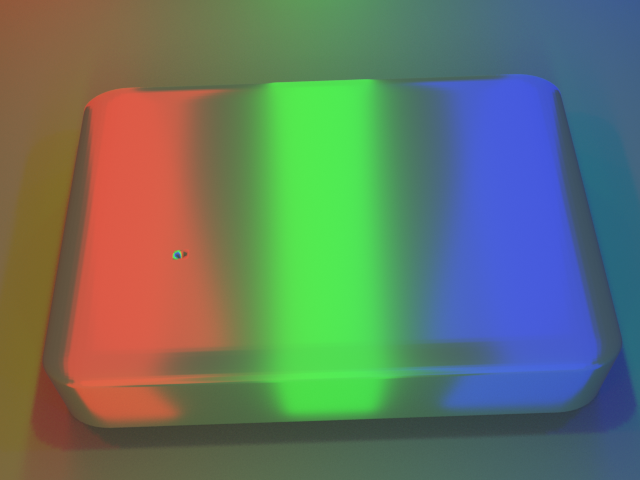dent: (147, 238, 184, 276)
